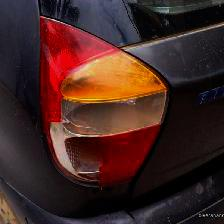tail_lamp: (41, 109, 123, 203)
